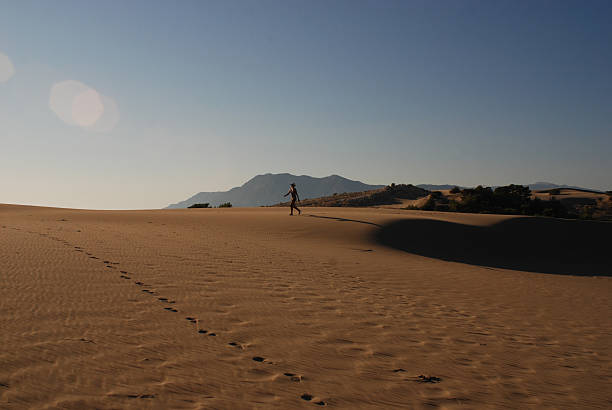human_footprint: (79, 247, 178, 312), (333, 332, 418, 380), (38, 233, 119, 268), (292, 283, 375, 315), (242, 351, 308, 390), (29, 231, 99, 259), (248, 355, 307, 385), (242, 356, 280, 383), (185, 316, 216, 336), (184, 316, 215, 335), (254, 371, 303, 382), (404, 374, 441, 383), (134, 280, 157, 294), (300, 393, 326, 405), (300, 393, 325, 405), (134, 281, 157, 294), (134, 281, 156, 294), (136, 282, 156, 294), (108, 393, 155, 398), (251, 355, 275, 364), (251, 356, 276, 364), (415, 375, 441, 382), (139, 284, 157, 294), (283, 372, 301, 381), (197, 329, 216, 336), (228, 342, 244, 349), (128, 394, 154, 398), (78, 337, 95, 343), (158, 297, 175, 303), (185, 316, 197, 323), (120, 270, 130, 278), (301, 393, 312, 400), (141, 289, 155, 294), (350, 248, 373, 251), (164, 307, 177, 312), (103, 260, 119, 264), (252, 356, 264, 361), (314, 400, 325, 405), (0, 382, 9, 388), (392, 368, 405, 372), (134, 281, 145, 285), (120, 274, 130, 278), (89, 255, 98, 259), (158, 297, 167, 301), (198, 329, 207, 333), (57, 218, 68, 221), (208, 332, 216, 336), (75, 247, 83, 251), (120, 270, 127, 274), (166, 300, 175, 303), (106, 265, 114, 268), (103, 260, 110, 263), (85, 252, 91, 255), (110, 262, 119, 264), (74, 246, 81, 248), (2, 225, 6, 228)
